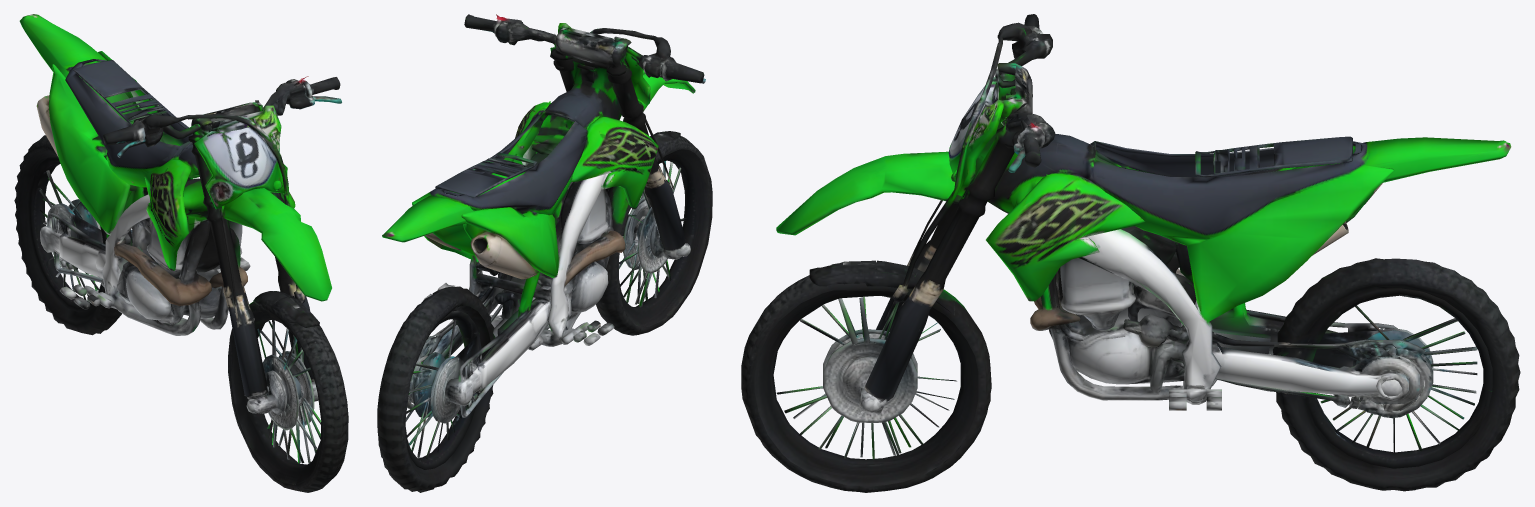
Rendered from bike_old.glb.
3 renders of one model, left to right at view 1: azimuth 30°, elevation 25°; view 2: azimuth 150°, elevation 25°; view 3: azimuth 270°, elevation 25°, orthographic. The views are drawn at different scales.
Visible parts, largest first — view 1: back_wheel; view 2: back_wheel; view 3: back_wheel.
Boxes of the visible parts, <box> form: back_wheel: <box>14,14,348,492</box>; back_wheel: <box>377,14,712,492</box>; back_wheel: <box>741,14,1520,492</box>.
Bounding box in the file's own units: 0.4825 × 0.6801 × 1.13.
Materials: 1 (1 with a texture image).
